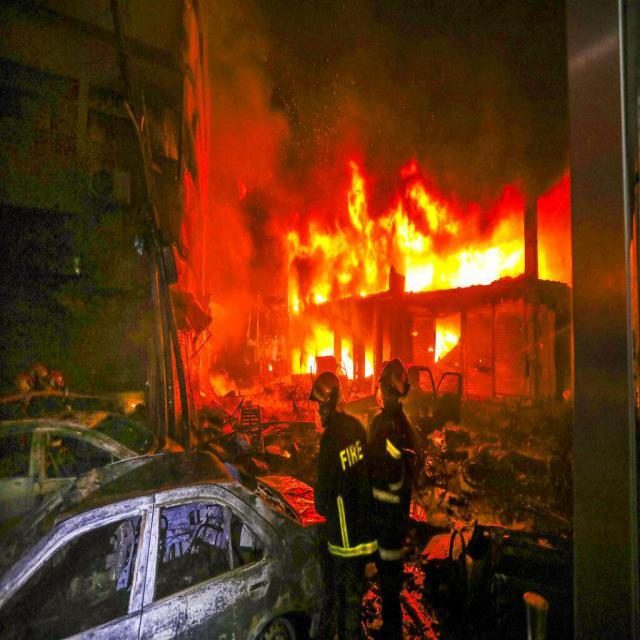Fire: (280, 140, 578, 404)
